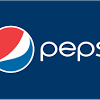Pepsi: (35, 1, 73, 100)
